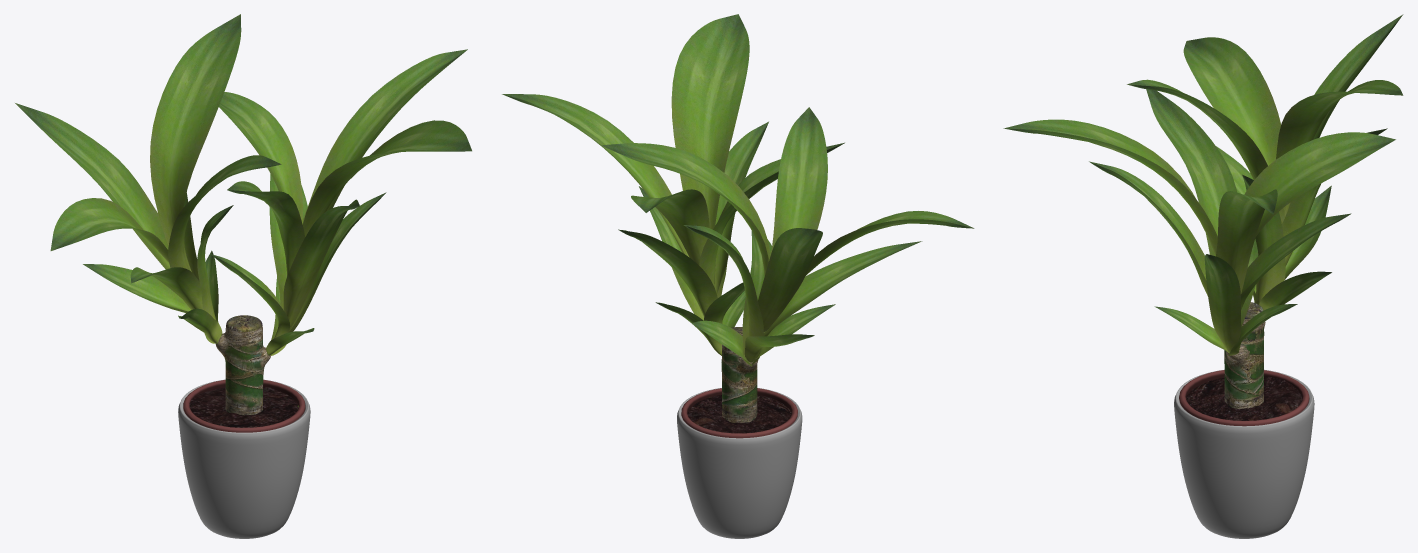
File: indoor plant_02.obj
The picture shows the model from 3 angles, left to right: view 1: azimuth 30°, elevation 25°; view 2: azimuth 150°, elevation 25°; view 3: azimuth 270°, elevation 25°; orthographic projection. The views are drawn at different scales.
Visible parts, largest first — view 1: indoor_plant_02; view 2: indoor_plant_02; view 3: indoor_plant_02.
Boxes of the visible parts, box(x1,y1,x2,y2) form: indoor_plant_02: box(15, 14, 471, 538); indoor_plant_02: box(502, 14, 974, 538); indoor_plant_02: box(1003, 14, 1403, 538).
Size of the model in its own units: 6.82 by 6.22 by 4.86.
6 materials, 5 textured.
